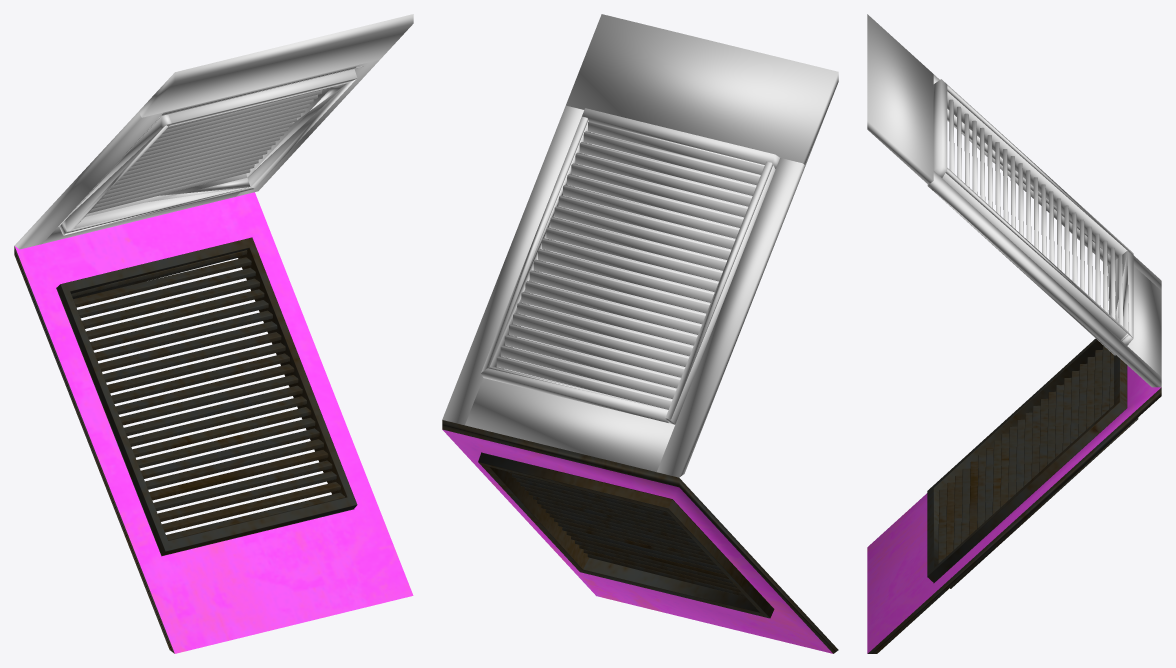
The model's file is SM_Roof_Window.fbx.
3 renders of one model, left to right at view 1: azimuth 30°, elevation 25°; view 2: azimuth 150°, elevation 25°; view 3: azimuth 270°, elevation 25°, orthographic. The views are drawn at different scales.
Visible parts, largest first — view 1: SM_Roof_Window, SM_Roof_Window_ConvexHulls; view 2: SM_Roof_Window_ConvexHulls, SM_Roof_Window; view 3: SM_Roof_Window_ConvexHulls, SM_Roof_Window.
Part boxes in pixels (x1,y1,x2,y2): SM_Roof_Window: (14, 192, 413, 653); SM_Roof_Window_ConvexHulls: (14, 14, 413, 249); SM_Roof_Window_ConvexHulls: (442, 14, 838, 477); SM_Roof_Window: (442, 420, 838, 653); SM_Roof_Window_ConvexHulls: (867, 14, 1161, 387); SM_Roof_Window: (867, 338, 1161, 653).
Size of the model in its own units: 5.15 by 12 by 6.
